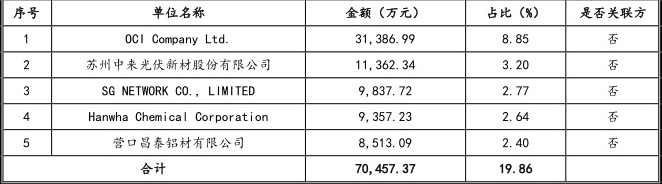column: (87, 3, 270, 184), (347, 2, 419, 184), (580, 2, 646, 184), (487, 1, 540, 184), (14, 1, 40, 184)
row: (1, 6, 662, 20), (7, 162, 662, 175), (6, 33, 662, 45), (1, 85, 662, 96), (1, 112, 662, 123), (1, 137, 662, 148), (2, 59, 662, 70)
